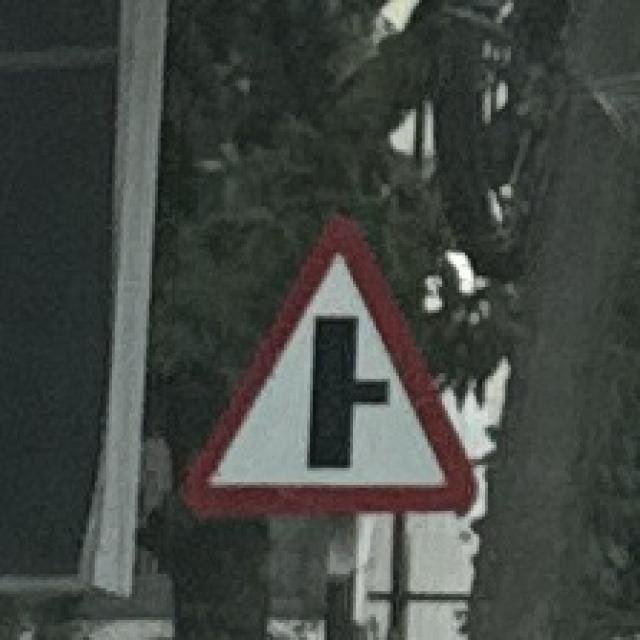SIDE_ROAD_RIGHT: (163, 196, 488, 530)
